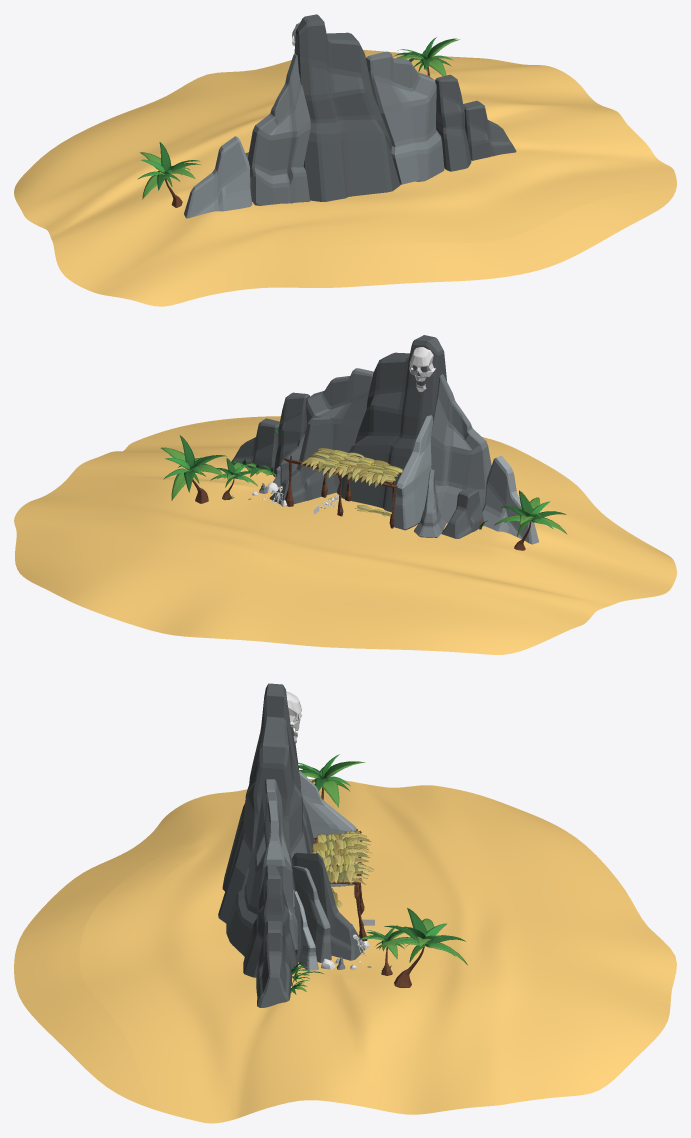
The model's file is Island01.fbx.
The picture shows the model from 3 angles, top to bottom: view 1: azimuth 30°, elevation 25°; view 2: azimuth 150°, elevation 25°; view 3: azimuth 270°, elevation 25°; orthographic projection. The views are drawn at different scales.
Visible parts, largest first — view 1: Mball.123, Cube.254, Cube.253, Cube.258, Cube.259, Cube.252, Cube.251, BezierCurve.353, BezierCurve.354, Leafs03.001, Leafs01.001; view 2: Mball.123, Cube.254, Cube.258, Cube.253, Cube.260, Cube.256, Cube.259, Cube.252, Cube.251, Cube.262, Cube.261, Leafs03.001 (+4 smaller); view 3: Mball.123, Cube.254, Cube.253, Cube.252, Cube.251, Cube.256, Cube.255, Cube.260, Cube.257, Leafs01.001, Leafs03.001.
Boxes of the visible parts, x1,y1,x2,y2 form: Mball.123: [14, 50, 676, 306]; Cube.254: [294, 14, 400, 201]; Cube.253: [366, 51, 444, 184]; Cube.258: [248, 53, 310, 205]; Cube.259: [184, 136, 252, 218]; Cube.252: [435, 74, 471, 171]; Cube.251: [463, 100, 516, 160]; BezierCurve.353: [140, 142, 199, 178]; BezierCurve.354: [137, 163, 200, 199]; Leafs03.001: [397, 37, 459, 69]; Leafs01.001: [393, 50, 453, 76]; Mball.123: [14, 416, 676, 654]; Cube.254: [336, 335, 446, 512]; Cube.258: [426, 374, 491, 523]; Cube.253: [306, 368, 373, 486]; Cube.260: [393, 415, 433, 530]; Cube.256: [269, 416, 337, 505]; Cube.259: [482, 455, 538, 544]; Cube.252: [273, 392, 309, 476]; Cube.251: [231, 418, 279, 474]; Cube.262: [441, 487, 483, 538]; Cube.261: [414, 469, 446, 537]; Leafs03.001: [160, 435, 226, 476]; Mball.123: [14, 779, 676, 1123]; Cube.254: [218, 683, 314, 923]; Cube.253: [226, 779, 297, 956]; Cube.252: [243, 864, 297, 977]; Cube.251: [256, 921, 292, 1007]; Cube.256: [291, 852, 365, 960]; Cube.255: [292, 866, 331, 962]; Cube.260: [299, 770, 357, 886]; Cube.257: [294, 891, 318, 970]; Leafs01.001: [376, 925, 467, 965]; Leafs03.001: [401, 908, 446, 946].
Size of the model in its own units: 7536 by 2603 by 6346.
